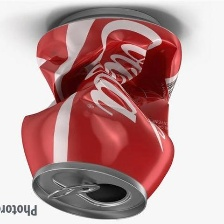can: (16, 4, 187, 220)
